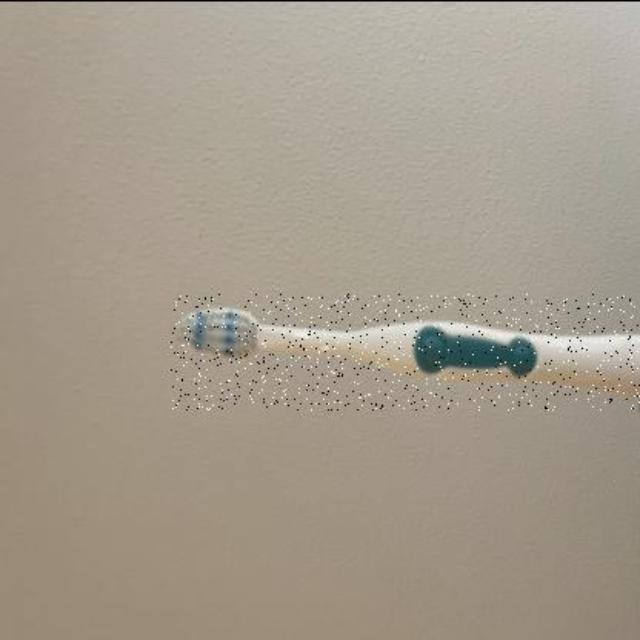toothbrush: (170, 293, 640, 409)
